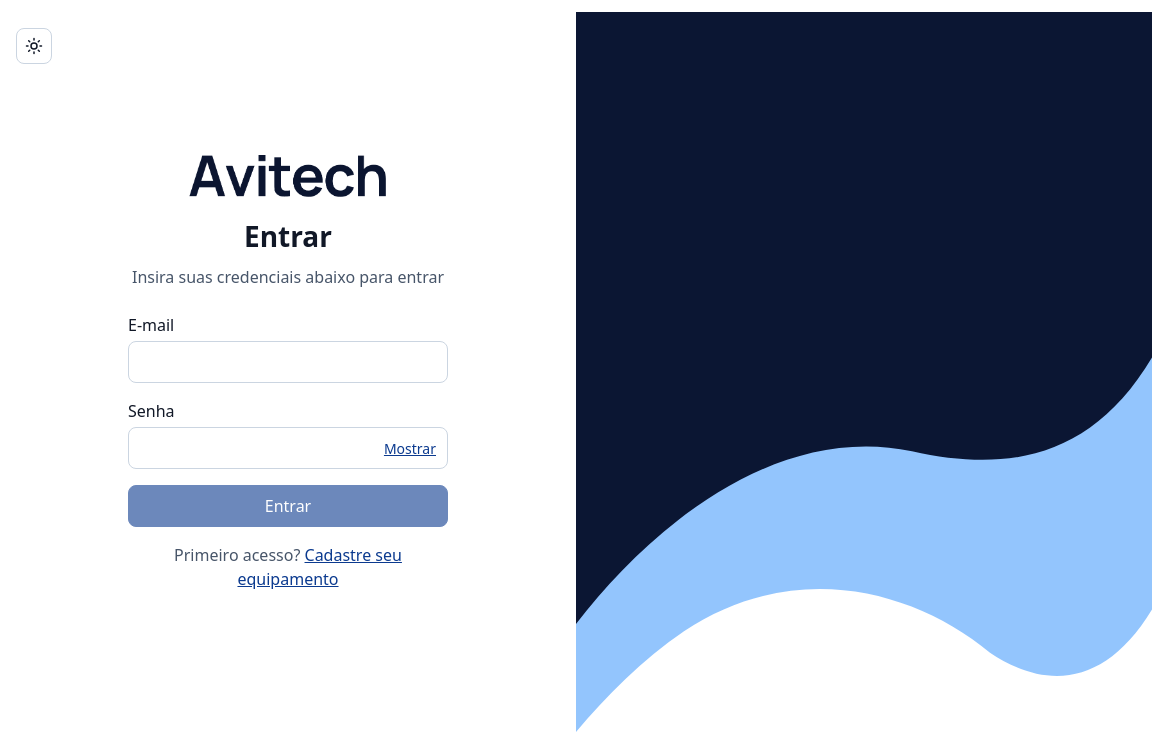
Test: LoginPage › erro 401 mostra a mensagem
Type "dono@example.com" into the field labelled "E-mail".
click(288, 362); type("dono@example.com")  # box [128,341,448,383]
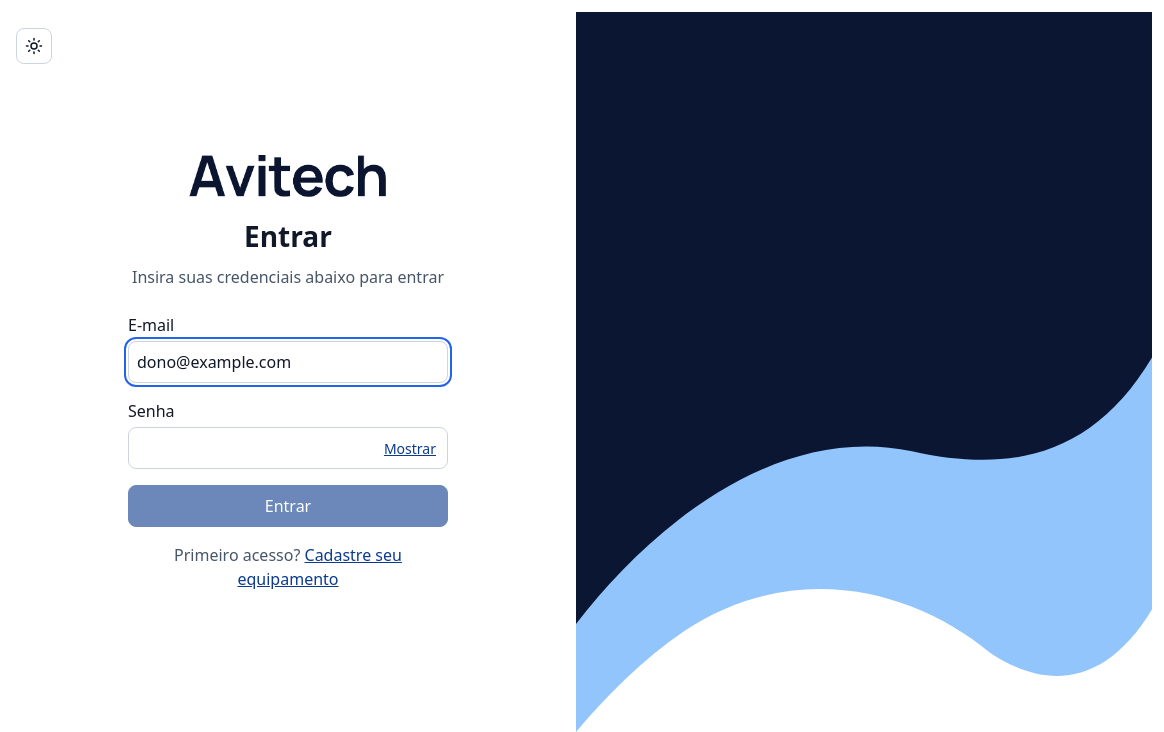
Type "segredo-123" into the password field labelled "Senha".
click(288, 448); type("segredo-123")  # box [128,427,448,469]
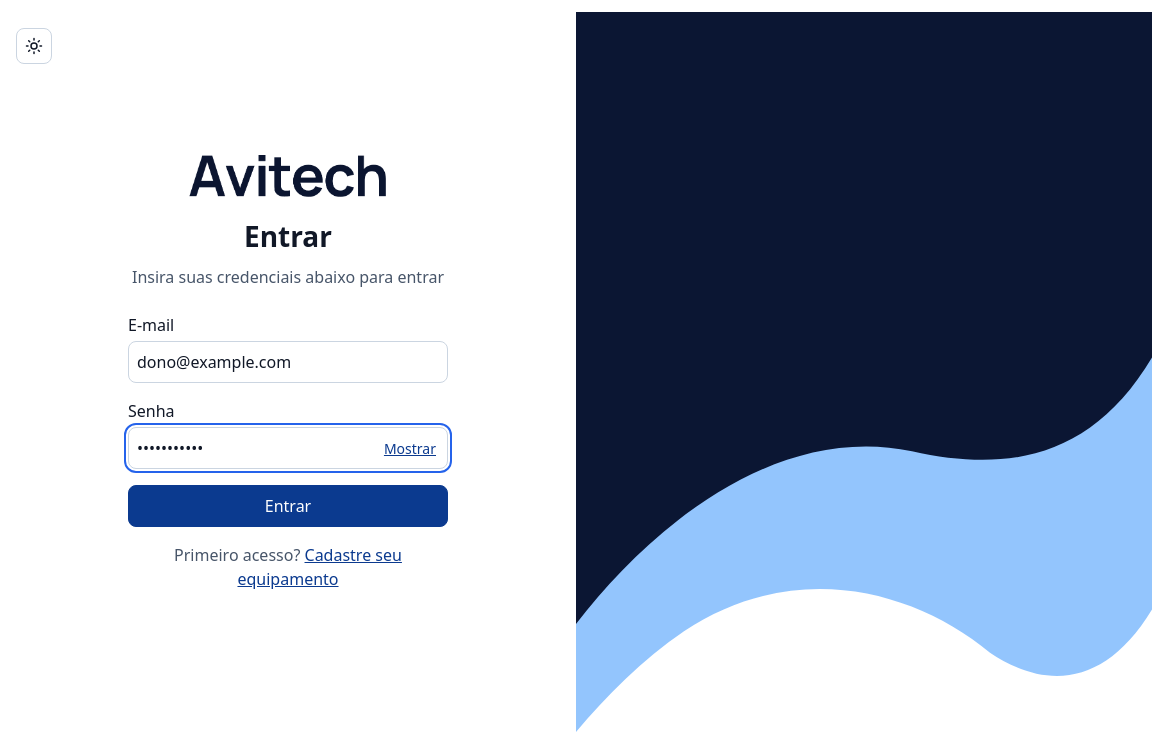
Click the button "Entrar".
click(288, 506)  # box [128,485,448,527]
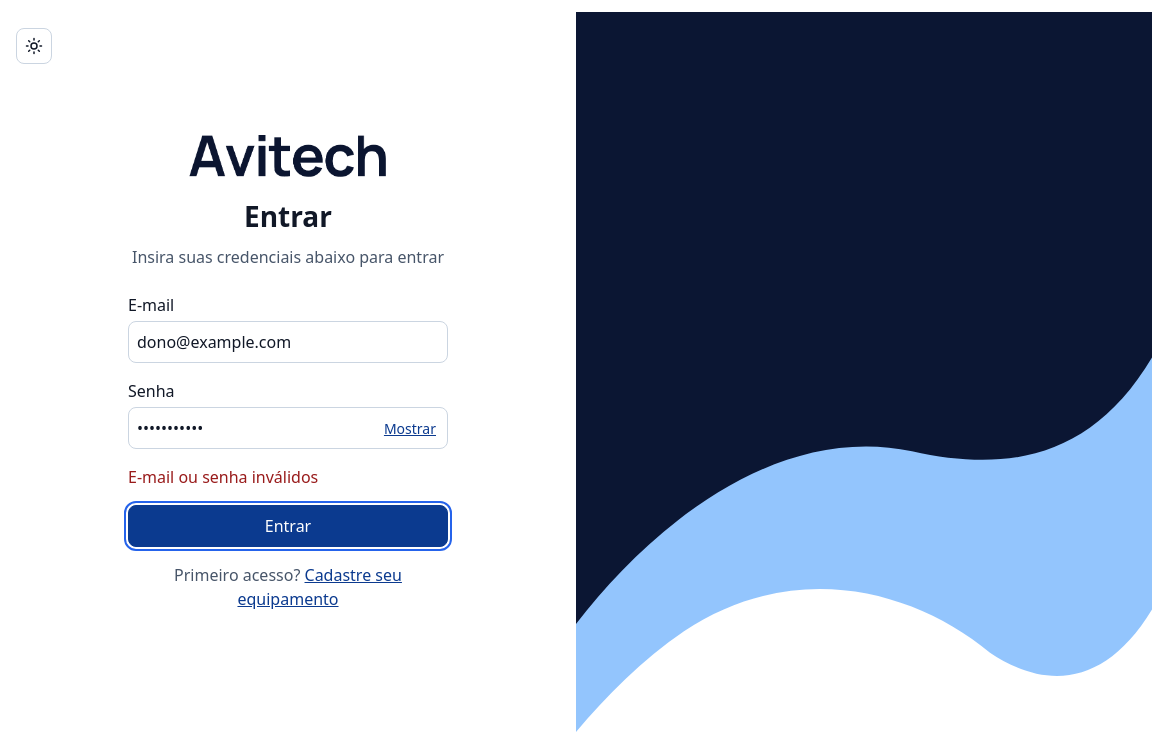
Check: the message reads "E-mail ou senha inválidos", box [128,466,318,488]
